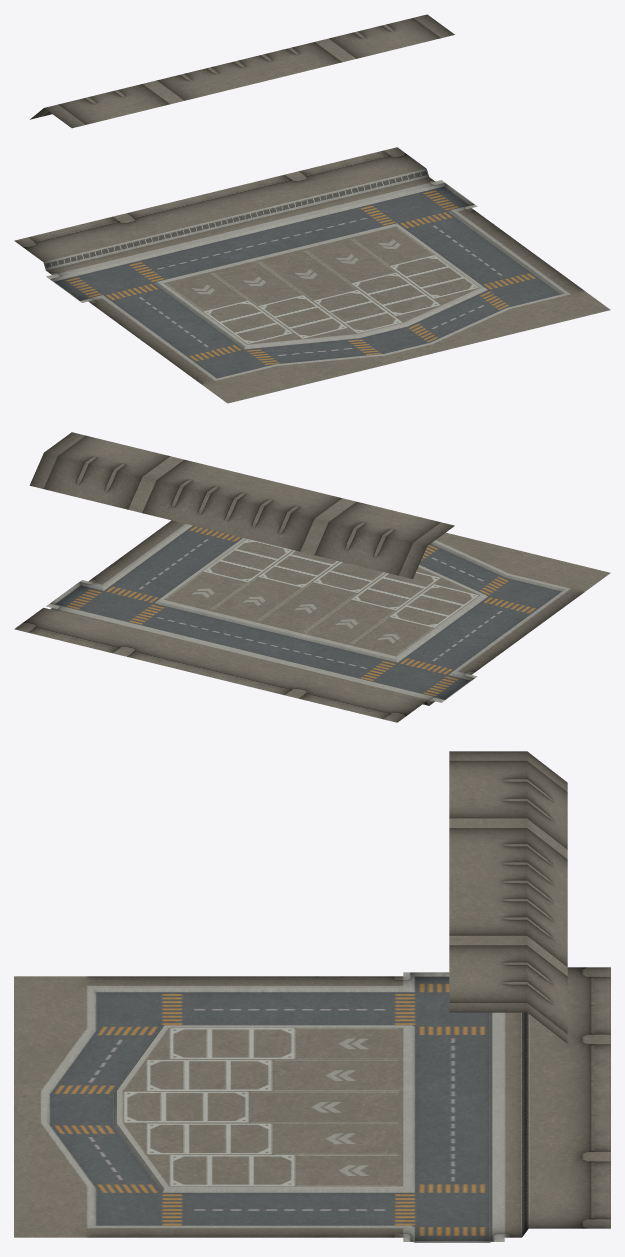
File: hanger_base.fbx
3 renders of one model, top to bottom at view 1: azimuth 30°, elevation 25°; view 2: azimuth 150°, elevation 25°; view 3: azimuth 270°, elevation 25°, orthographic. The views are drawn at different scales.
Parts seen in each view (by area): view 1: hanger_base; view 2: hanger_base; view 3: hanger_base.
Boxes of the visible parts, x1=… form: hanger_base: x1=14, y1=14, x2=610, y2=403; hanger_base: x1=14, y1=432, x2=610, y2=722; hanger_base: x1=14, y1=751, x2=610, y2=1242.
Size of the model in its own units: 221 by 87 by 207.
